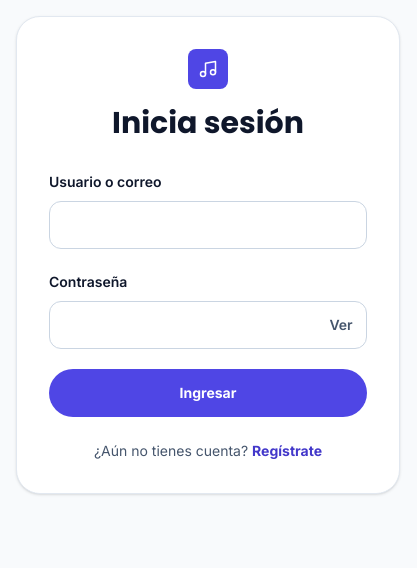
Test: TEST-FE-AUTH: login, registro y guardas › TEST-FE-AUTH-003 bloquea login vacío sin enviar HTTP
The image size is (417, 568).
Click the button "Ingresar" at x=208, y=393, box [49,369,367,417]
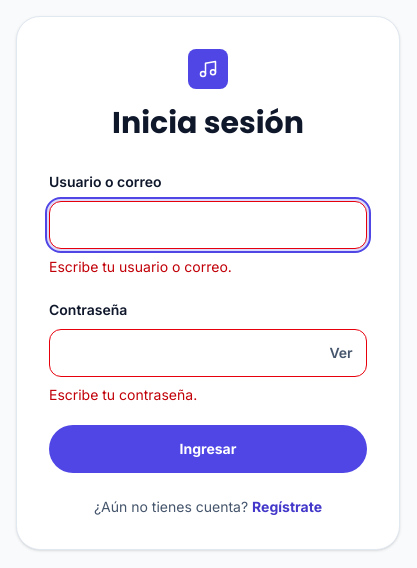
Now the text "Escribe tu usuario o correo." is shown, box [49,258,232,275]
Now the text "Escribe tu contraseña." is shown, box [49,386,197,403]
